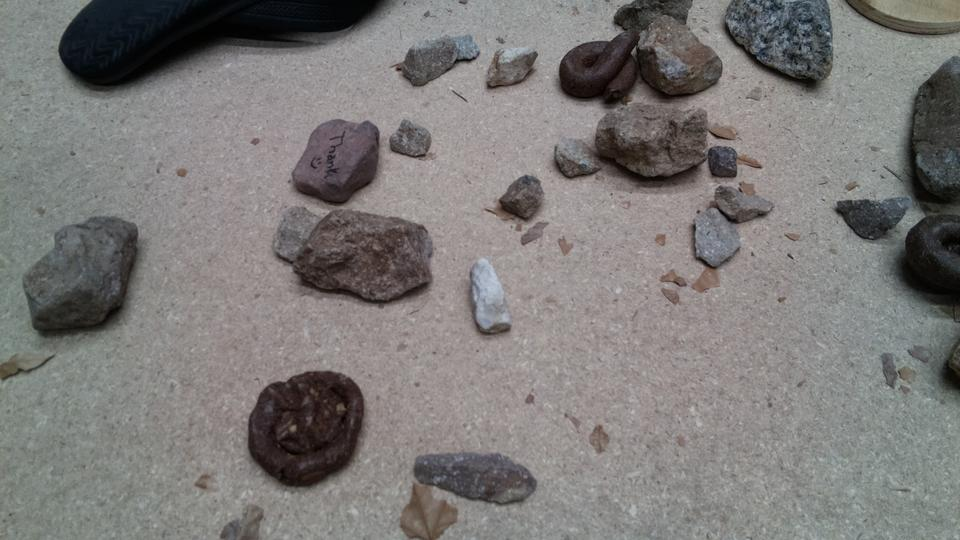poop: (246, 368, 367, 491), (557, 26, 642, 106), (901, 211, 960, 299)
